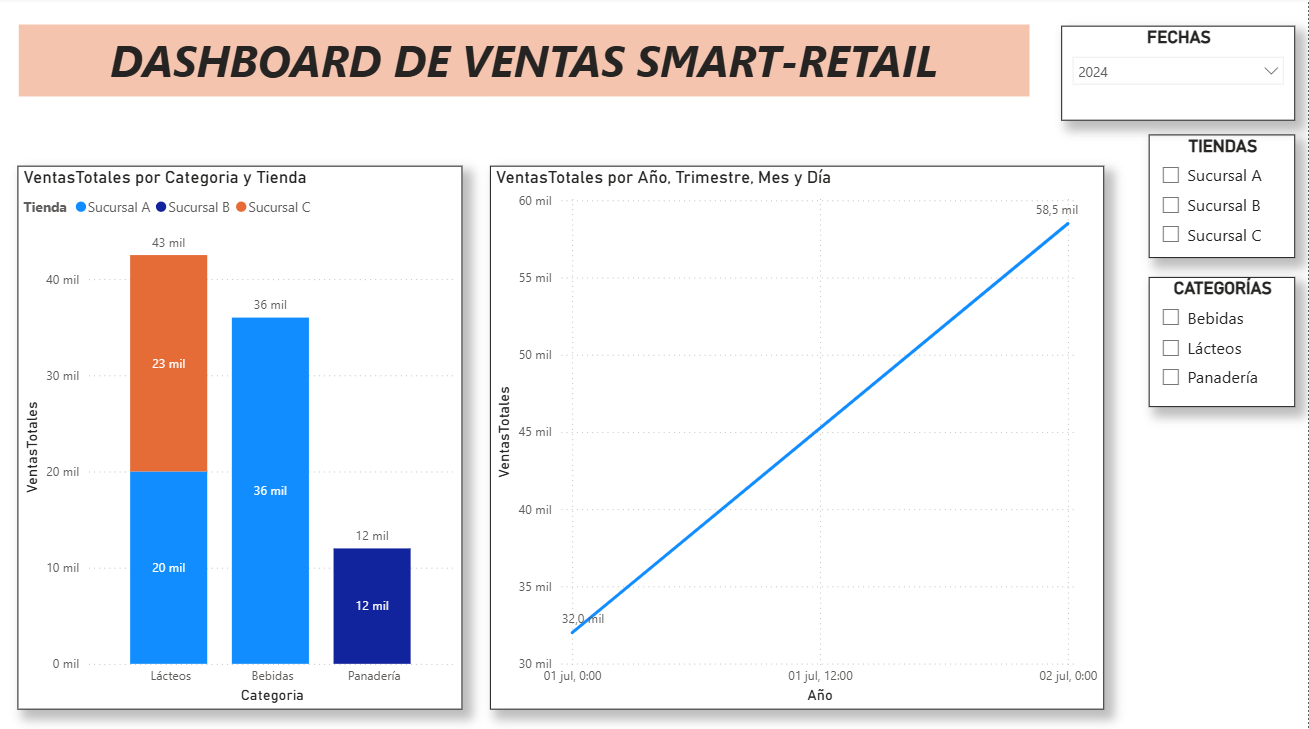

This screenshot's page, from the dashboard's own definition file:
{"tool":"powerbi","page":{"name":"VENTAS","canvas":[1280,720],"ordinal":0},"visuals":[{"type":"slicer","title":"TIENDAS","fields":{"Values":["Dim_tienda.Tienda"]},"box":[1124.2,134.6,143.3,120.9],"z":2000},{"type":"slicer","title":"CATEGORÍAS","fields":{"Values":["Dim_productos.Categoria"]},"box":[1124.2,274.2,143.3,127.1],"z":3000},{"type":"textbox","box":[18.6,27.1,988.6,70],"z":4000},{"type":"columnChart","fields":{"Y":["hechos_ventas_combinacion.VentasTotales"],"Category":["Dim_productos.Categoria"],"Series":["Dim_tienda.Tienda"]},"box":[17.4,164.5,435,532.2],"z":5000},{"type":"lineChart","fields":{"Y":["hechos_ventas_combinacion.VentasTotales"],"Category":["Dim_fecha.Fecha.Variación.Jerarquía de fechas.Año","Dim_fecha.Fecha.Variación.Jerarquía de fechas.Trimestre","Dim_fecha.Fecha.Variación.Jerarquía de fechas.Mes","Dim_fecha.Fecha.Variación.Jerarquía de fechas.Día"]},"box":[479.8,164.5,600.7,532.2],"z":6000},{"type":"slicer","title":"FECHAS","fields":{"Values":["Dim_fecha.Fecha.Variación.Jerarquía de fechas.Año","Dim_fecha.Fecha.Variación.Jerarquía de fechas.Trimestre","Dim_fecha.Fecha.Variación.Jerarquía de fechas.Mes","Dim_fecha.Fecha.Variación.Jerarquía de fechas.Día"]},"box":[1038.6,28.6,228.6,92.9],"z":7000}]}

Visuals, with their boxes in screenshot pixels (x1, y1, x2, y2), scaled from the page's 1280x720 canvas onto the 1309x729 screenshot:
"TIENDAS" slicer: <box>1150,136,1296,259</box>
"CATEGORÍAS" slicer: <box>1150,278,1296,406</box>
textbox: <box>19,27,1030,98</box>
columnChart - hechos_ventas_combinacion.VentasTotales x Dim_productos.Categoria: <box>18,167,463,705</box>
lineChart - hechos_ventas_combinacion.VentasTotales x Dim_fecha.Fecha.Variación.Jerarquía de fechas.Año: <box>491,167,1105,705</box>
"FECHAS" slicer: <box>1062,29,1296,123</box>
